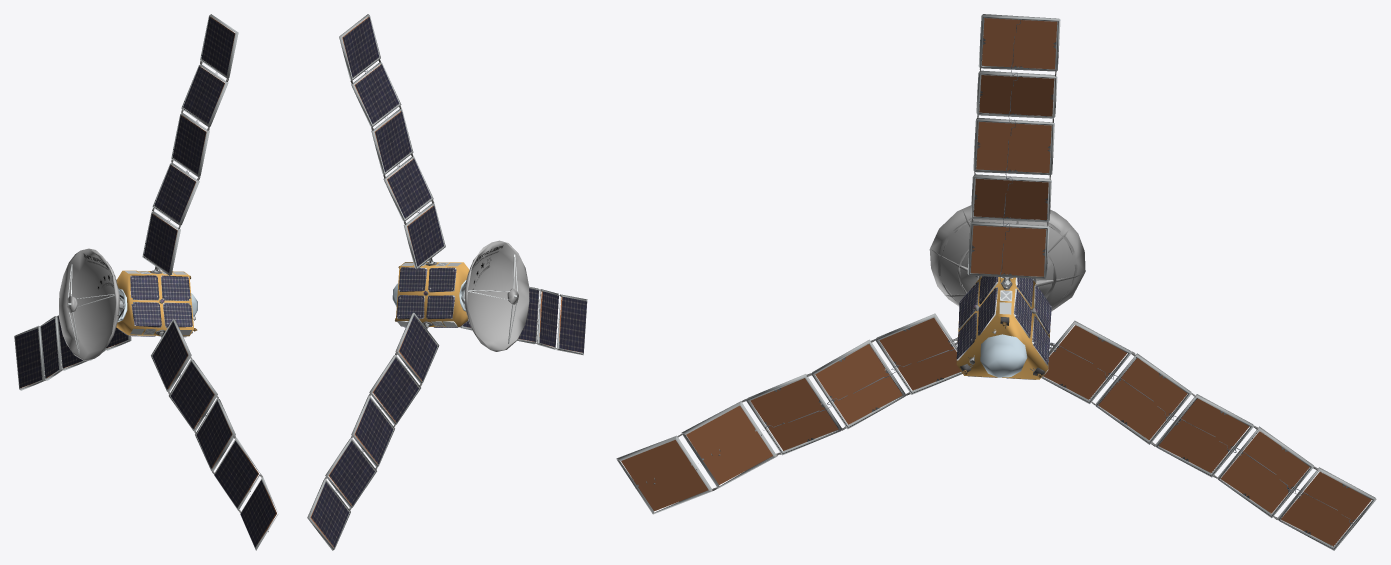
File: satellite.glb
The picture shows the model from 3 angles, left to right: view 1: azimuth 30°, elevation 25°; view 2: azimuth 150°, elevation 25°; view 3: azimuth 270°, elevation 25°; orthographic projection. The views are drawn at different scales.
Visible parts, largest first — view 1: sat_1; view 2: sat_1; view 3: sat_1.
Boxes of the visible parts, <box> form: sat_1: <box>14,14,278,550</box>; sat_1: <box>307,14,587,550</box>; sat_1: <box>616,14,1376,550</box>.
Size of the model in its own units: 1.2 by 3.04 by 3.51.
2 materials, 2 textured.
